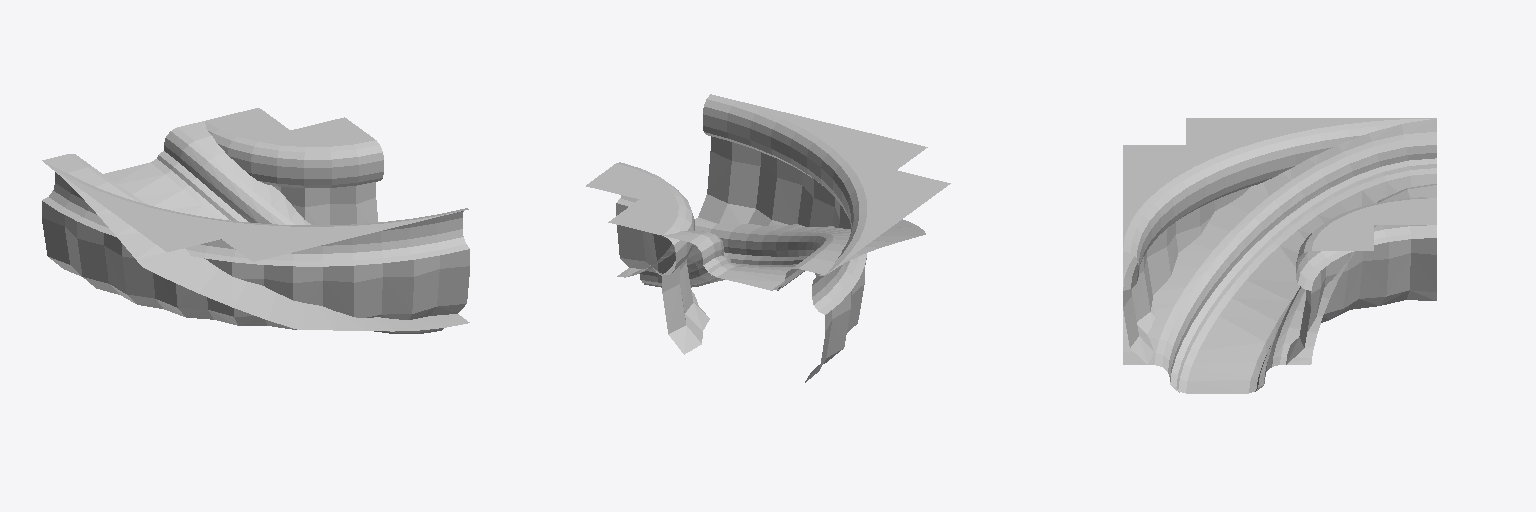
Rendered from Track_Cliff_Curve_Striped_Single_5x5.obj.
The picture shows the model from 3 angles: view 1: azimuth 30°, elevation 25°; view 2: azimuth 150°, elevation 25°; view 3: azimuth 270°, elevation 25°; orthographic projection.
Visible parts, largest first — view 1: Grass, Rock, Dirt, Raceline_Color_2, Raceline_Color_1; view 2: Grass, Rock, Dirt, Raceline_Color_2; view 3: Grass, Dirt, Rock, Raceline_Color_2, Raceline_Color_1.
Part boxes in pixels (x1,y1,x2,y2): Grass: (42,108,469,331); Rock: (42,182,469,329); Dirt: (104,159,443,332); Raceline_Color_2: (157,151,418,333); Raceline_Color_1: (172,163,442,333); Grass: (586,94,950,314); Rock: (616,136,866,382); Dirt: (641,263,802,290); Raceline_Color_2: (697,252,805,290); Grass: (1123,118,1436,383); Dirt: (1172,168,1436,393); Rock: (1123,187,1436,364); Raceline_Color_2: (1172,158,1436,377); Raceline_Color_1: (1170,161,1409,392).
Size of the model in its own units: 5 by 2.5 by 5.